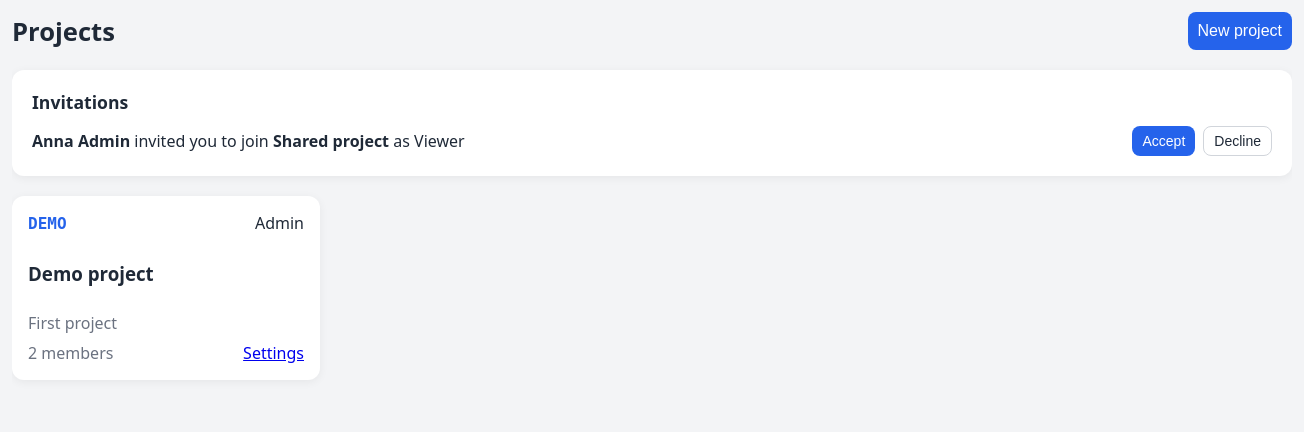
Test case: Projects page › shows the error when an invitation cannot be accepted
This screenshot has width=1304, height=432.
Click the button "Accept" at (1164, 141), box [1132,126,1195,156]
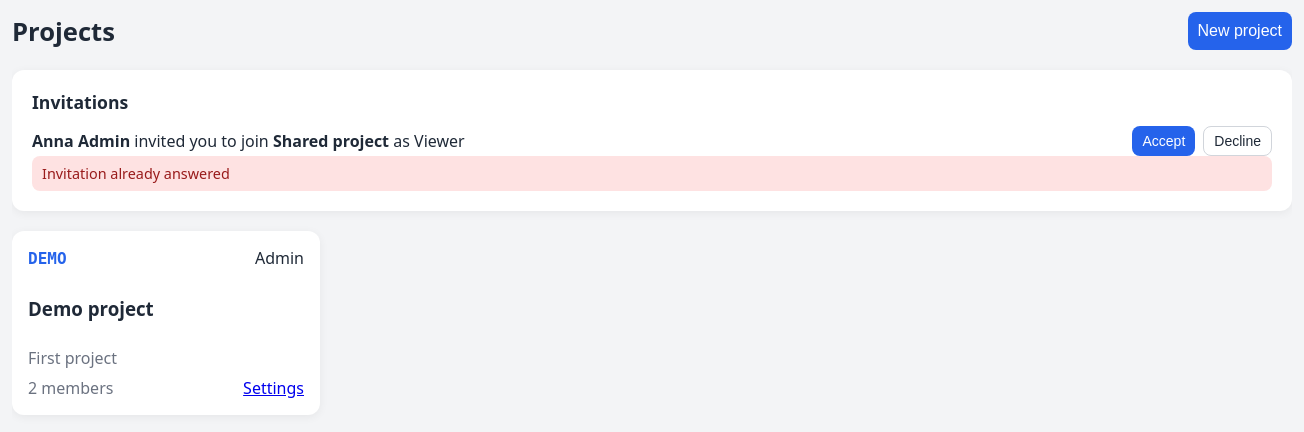
Result: the text "Invitation already answered" is shown at [32,156,1272,191]
